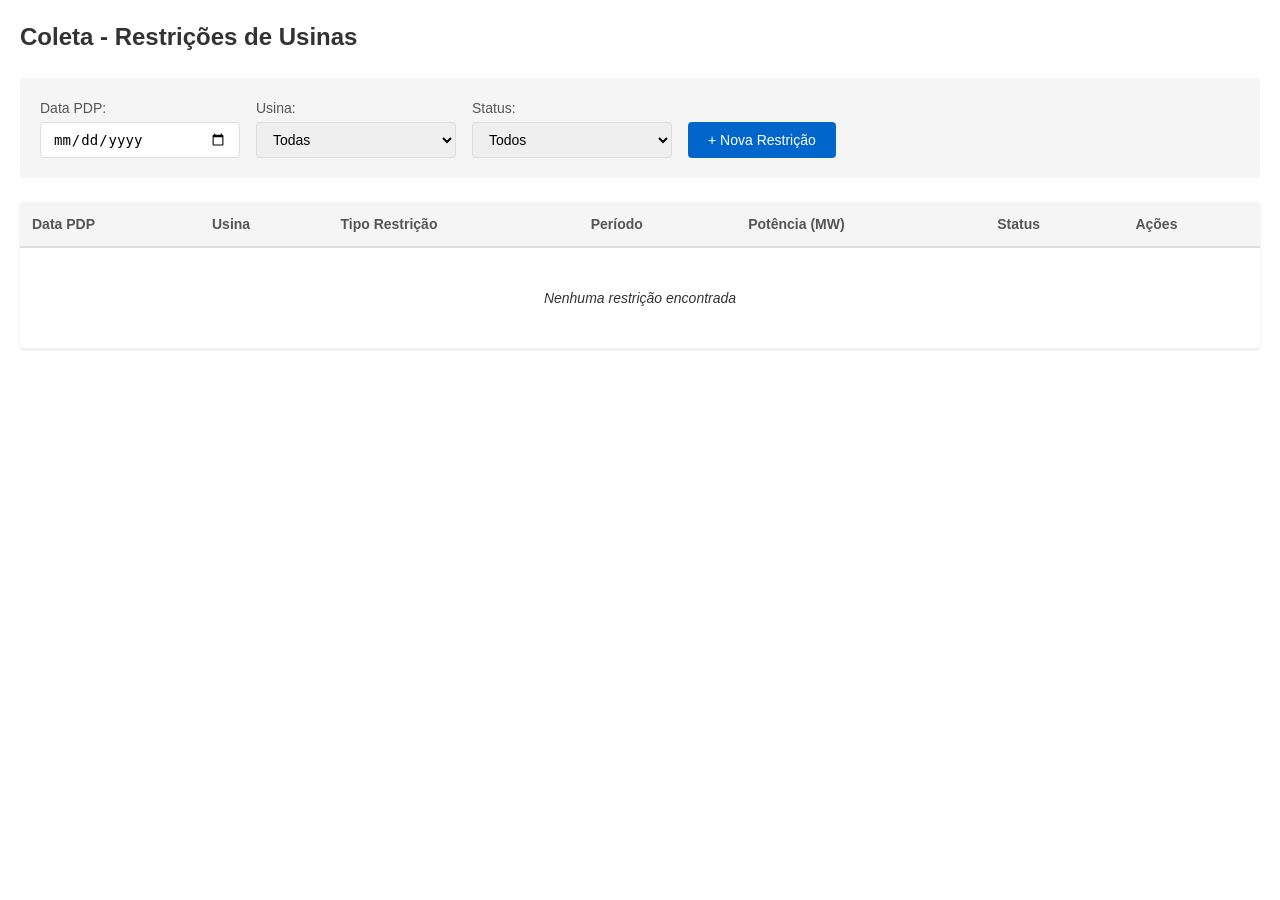
PlantRestriction Component › Diálogo de Criação/Edição › deve fechar diálogo ao clicar em Cancelar
This screenshot has width=1280, height=900.
Click the button with test id "btn-nova-restricao". click: (762, 140)
box: [688,122,836,158]
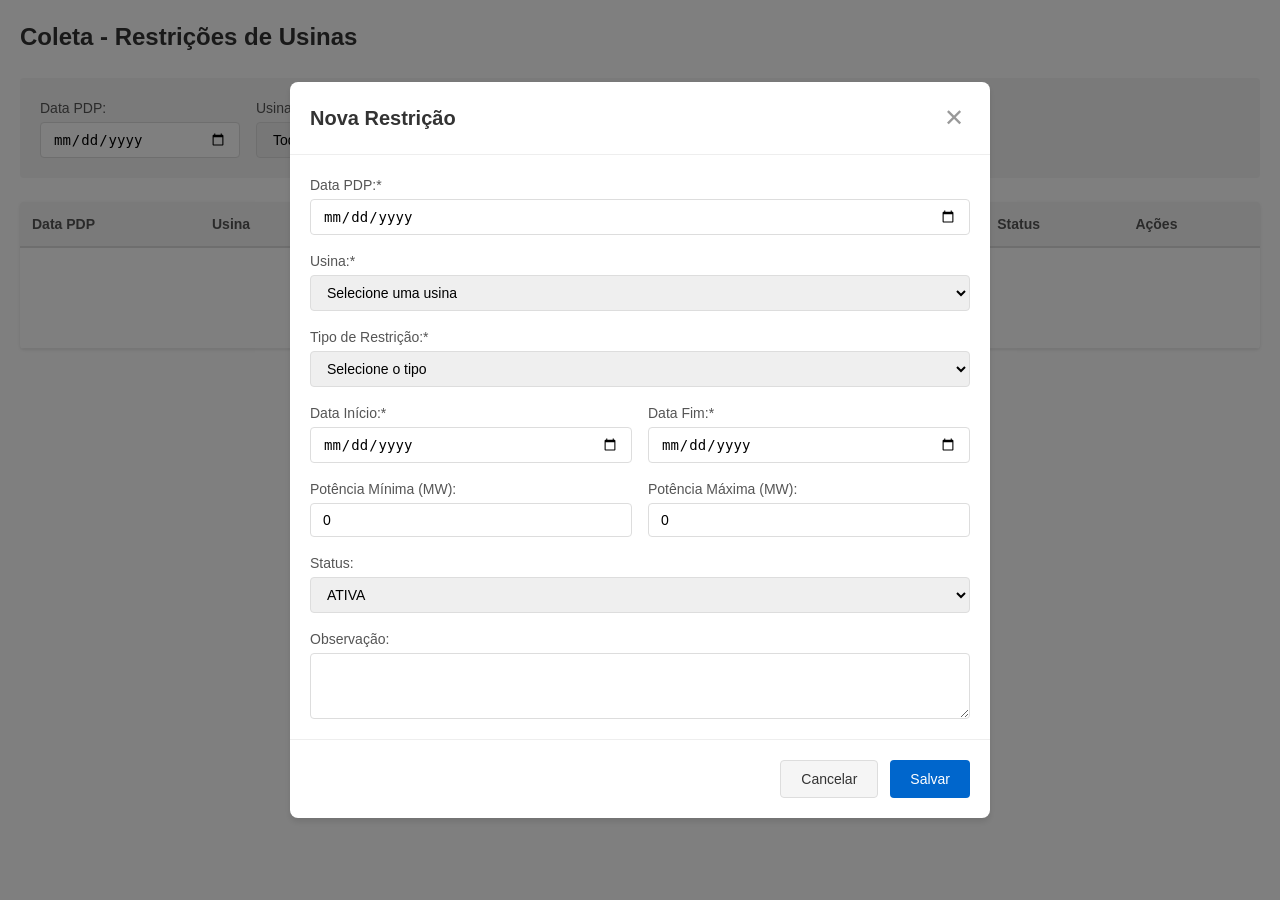
Check: the element with test id "dialog-form" is shown
Click the button with test id "btn-cancel". click: (829, 779)
box: [780,760,878,798]
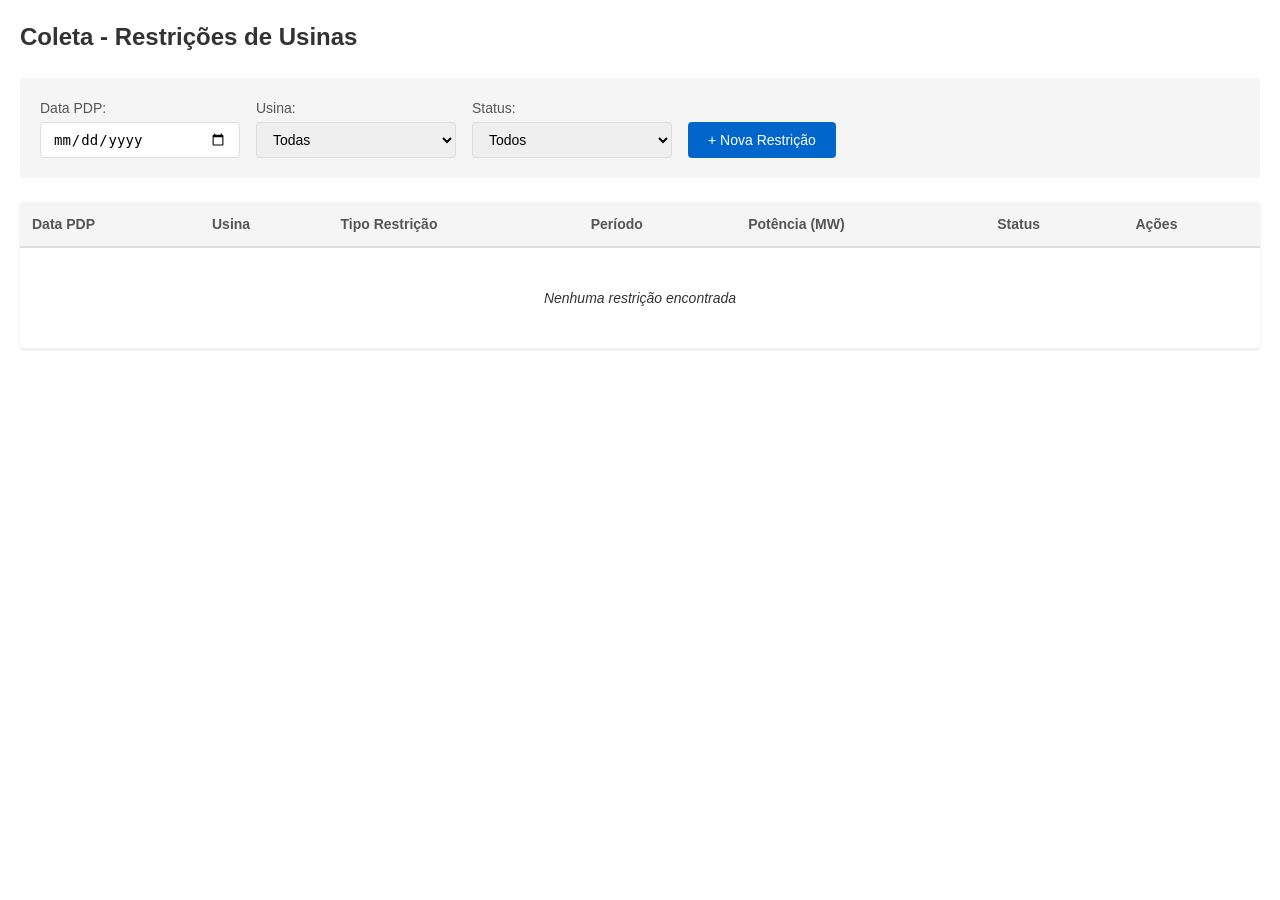
Check: the element with test id "dialog-form" is gone
